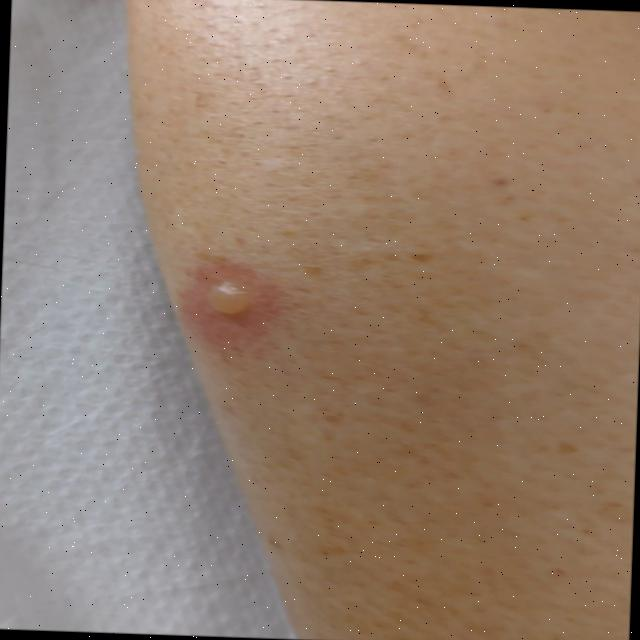kan emici bocekler: (165, 253, 302, 354)
